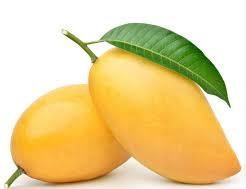mango: (87, 46, 241, 184), (7, 83, 131, 185)
